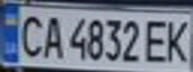2: (121, 16, 145, 64)
3: (103, 16, 124, 63)
4: (63, 14, 87, 61)
8: (84, 15, 106, 62)
A: (39, 11, 66, 60)
C: (15, 11, 48, 60)
E: (142, 16, 172, 64)
K: (160, 16, 193, 64)
